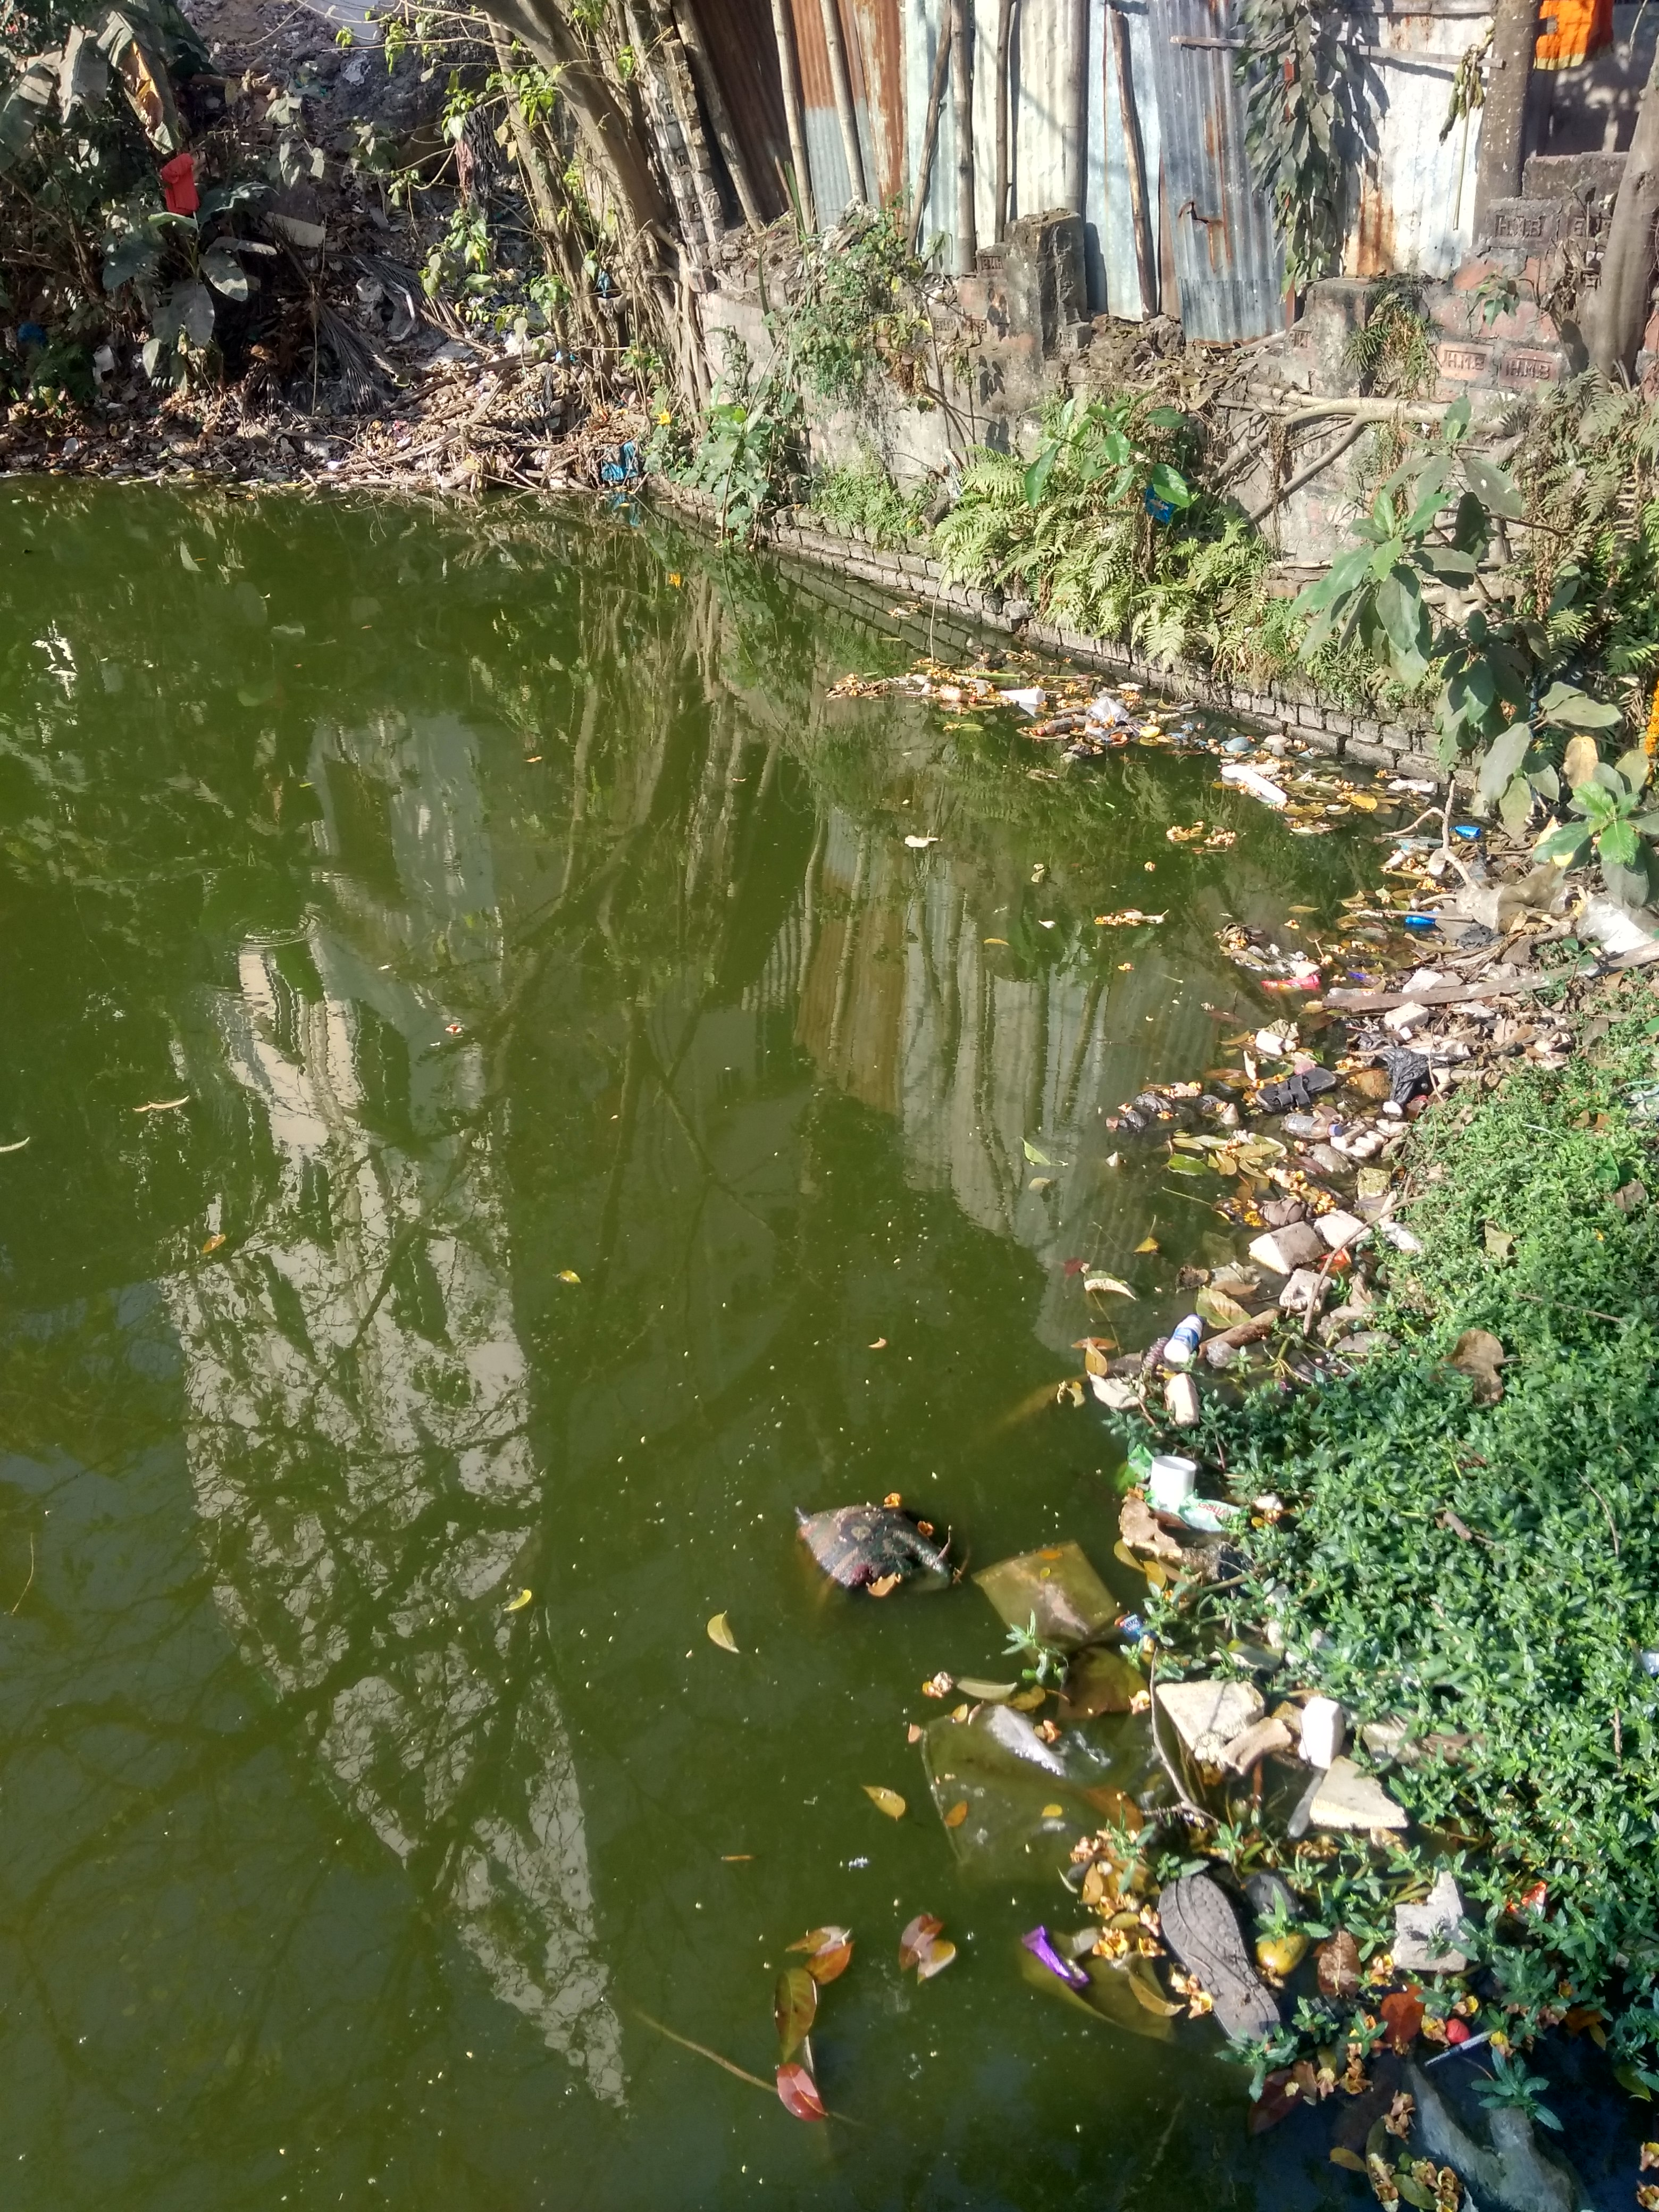Plastic Bottle: (1164, 1313, 1202, 1364), (1283, 1115, 1342, 1139), (1140, 1336, 1168, 1369), (1206, 1341, 1241, 1367), (1316, 1315, 1349, 1339), (1000, 688, 1046, 705), (939, 685, 976, 702), (1039, 718, 1073, 735), (1448, 826, 1480, 838), (1406, 911, 1434, 923), (906, 672, 931, 685), (1056, 705, 1084, 714), (967, 662, 985, 671), (1178, 704, 1194, 711)
